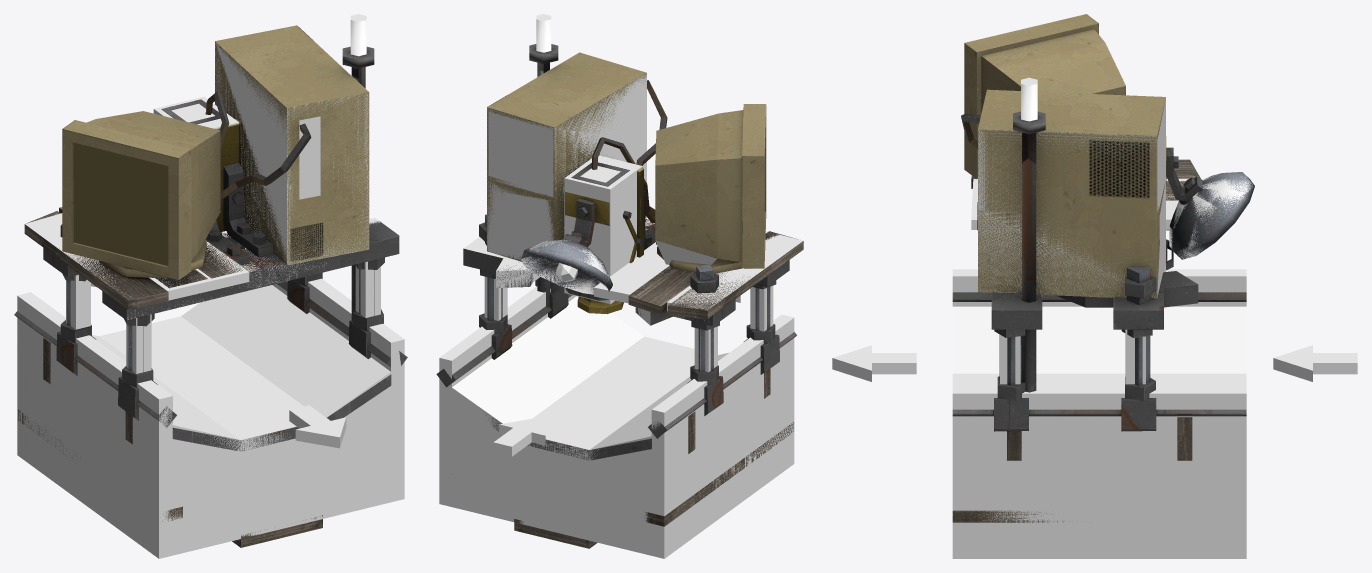
File: OreAnalyzer.glb
3 views of the same model, side by side, from view 1: azimuth 30°, elevation 25°; view 2: azimuth 150°, elevation 25°; view 3: azimuth 270°, elevation 25° (orthographic). The views are drawn at different scales.
Parts seen in each view (by area): view 1: OreAnalyzer_Col, OreAnalyzer, ghostarrow; view 2: OreAnalyzer_Col, OreAnalyzer, ghostarrow (1); view 3: OreAnalyzer_Col, OreAnalyzer, ghostarrow (1), ghostarrow.
Part boxes in pixels (x1,y1,x2,y2): OreAnalyzer_Col: (17,42,404,558); OreAnalyzer: (14,14,407,547); ghostarrow: (289,405,346,448); OreAnalyzer_Col: (439,73,803,558); OreAnalyzer: (436,14,803,548); ghostarrow (1): (493,417,545,456); OreAnalyzer_Col: (952,99,1254,558); OreAnalyzer: (952,14,1254,522); ghostarrow (1): (1273,345,1357,381); ghostarrow: (832,345,916,381).
Bounding box in the file's own units: 1.19 × 1.81 × 1.79.
8 materials, 3 textured.
